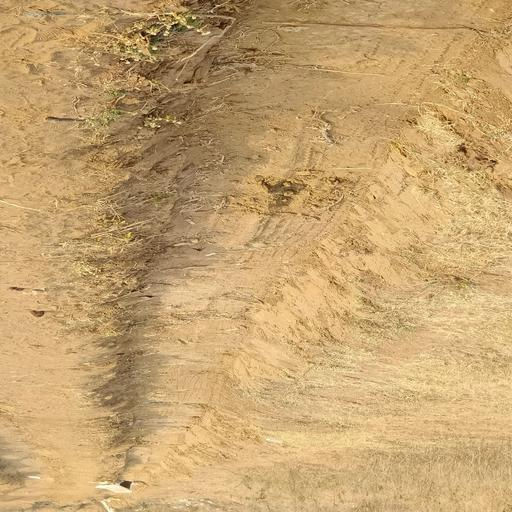vehicle_track: (131, 0, 512, 461)
